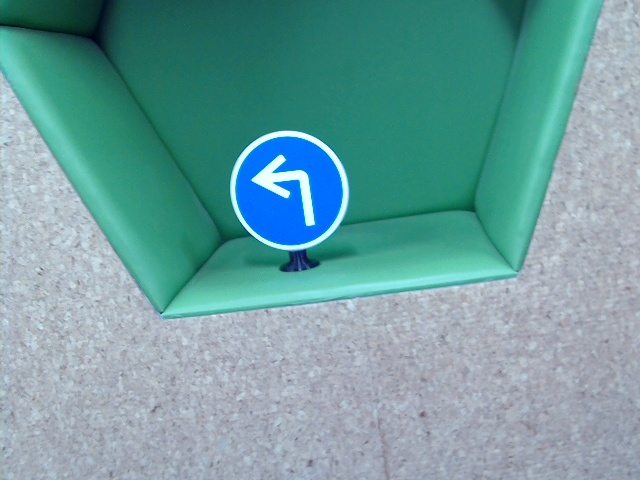turn_left: (249, 154, 323, 228)
